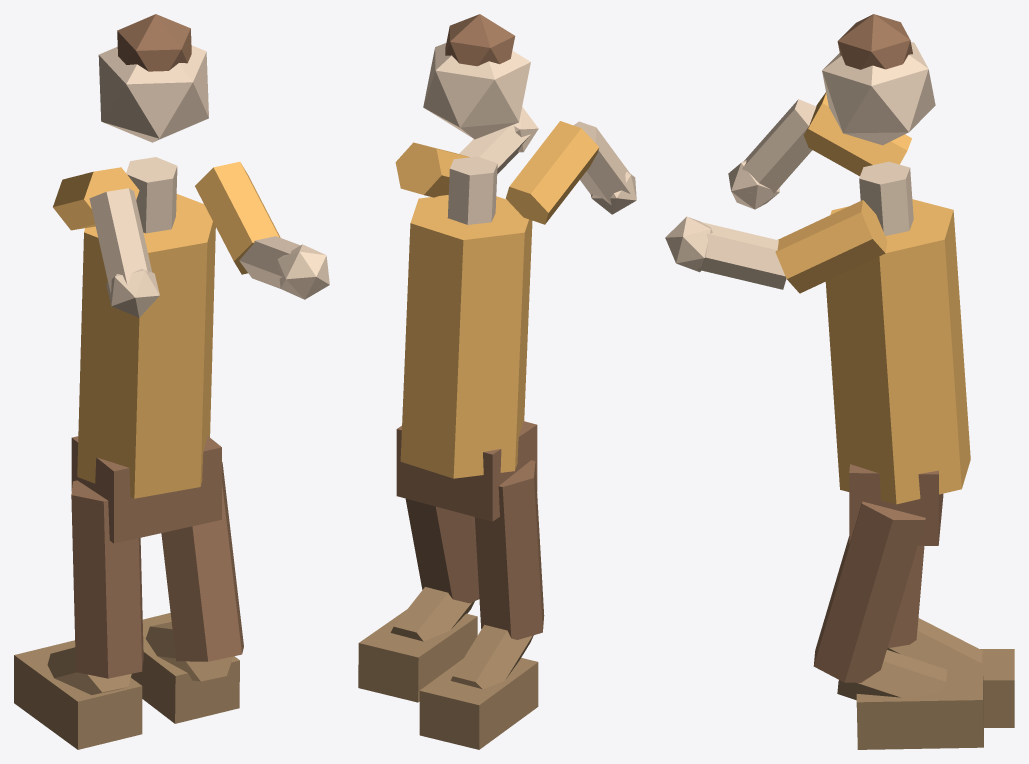
Rendered from pose_attack_1_23.glb.
3 views of the same model, side by side, from view 1: azimuth 30°, elevation 25°; view 2: azimuth 150°, elevation 25°; view 3: azimuth 270°, elevation 25° (orthographic). The views are drawn at different scales.
Visible parts, largest first — view 1: pose; view 2: pose; view 3: pose.
Part boxes in pixels (x1=…): pose: x1=14, y1=14, x2=329, y2=749; pose: x1=358, y1=14, x2=636, y2=749; pose: x1=665, y1=14, x2=1014, y2=749.
Bounding box in the file's own units: 0.4306 × 1.5 × 0.6643.
